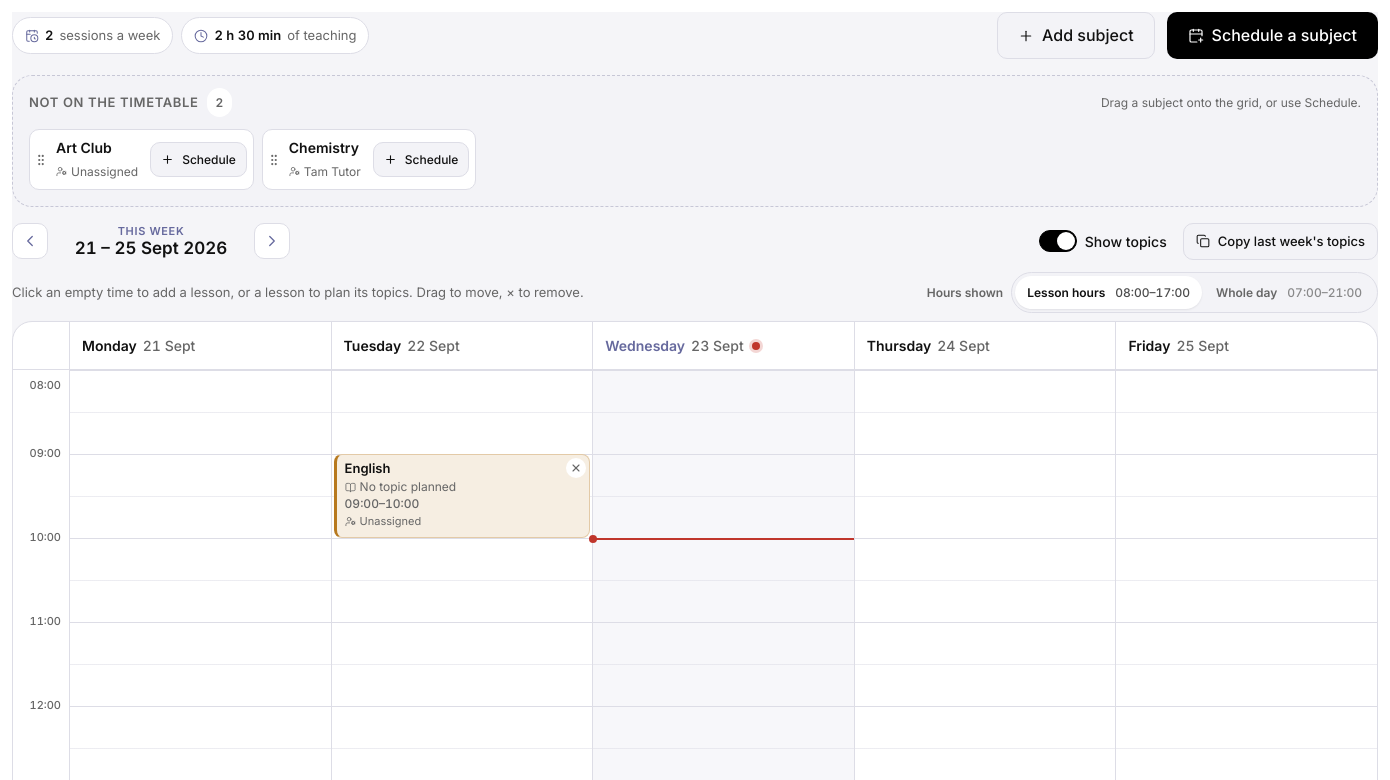
Scenario: TimetablePage changing and removing sessions › a failed one-click remove shows an alert and keeps the block
The image size is (1390, 780).
Expected: the text "English" is shown, [345,460,390,476]
Click the button named "Remove English from Tuesday": (576, 468) [566,458,586,478]
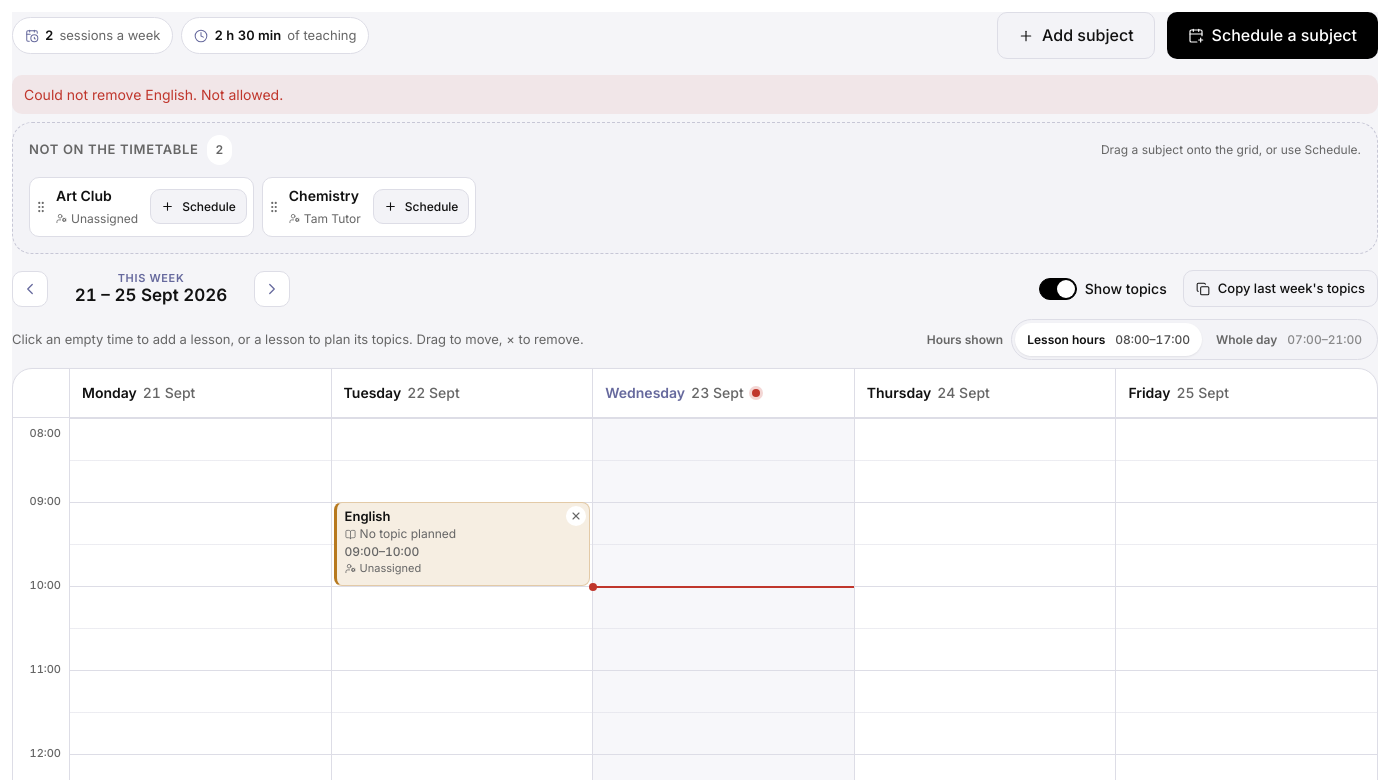
Expected: the button with aria-label "Edit English" is shown, [337,503,589,585]
Expected: the message reads "Could not remove English. Not allowed.", [24,86,283,103]
